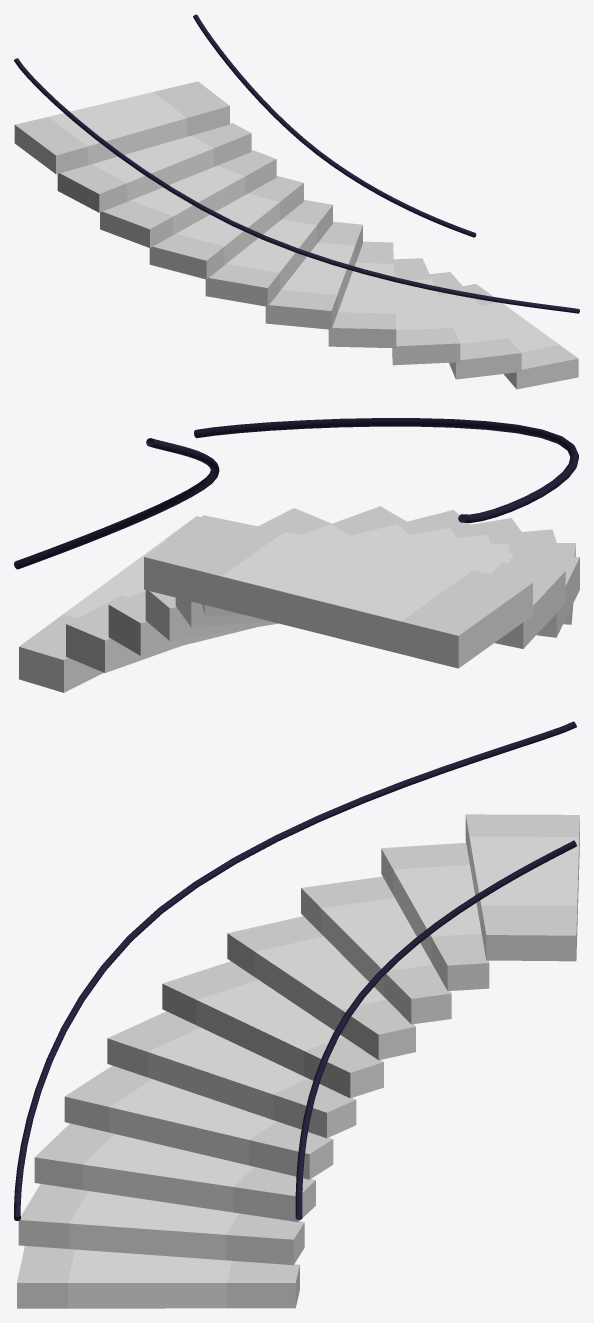
File: Updated_Curved_Stairs.fbx
3 renders of one model, top to bottom at view 1: azimuth 30°, elevation 25°; view 2: azimuth 150°, elevation 25°; view 3: azimuth 270°, elevation 25°, orthographic. The views are drawn at different scales.
Parts seen in each view (by area): view 1: Circle.002, BézierCurve.004, BézierCurve.005; view 2: Circle.002, BézierCurve.004, BézierCurve.005; view 3: Circle.002, BézierCurve.004, BézierCurve.005.
Boxes of the visible parts, x1,y1,x2,y2 form: Circle.002: [14, 81, 578, 389]; BézierCurve.004: [14, 58, 579, 313]; BézierCurve.005: [193, 14, 476, 237]; Circle.002: [19, 506, 579, 692]; BézierCurve.004: [194, 418, 578, 522]; BézierCurve.005: [14, 438, 219, 569]; Circle.002: [17, 814, 579, 1308]; BézierCurve.004: [14, 721, 576, 1220]; BézierCurve.005: [295, 840, 576, 1219].
Size of the model in its own units: 502 by 342 by 502.
